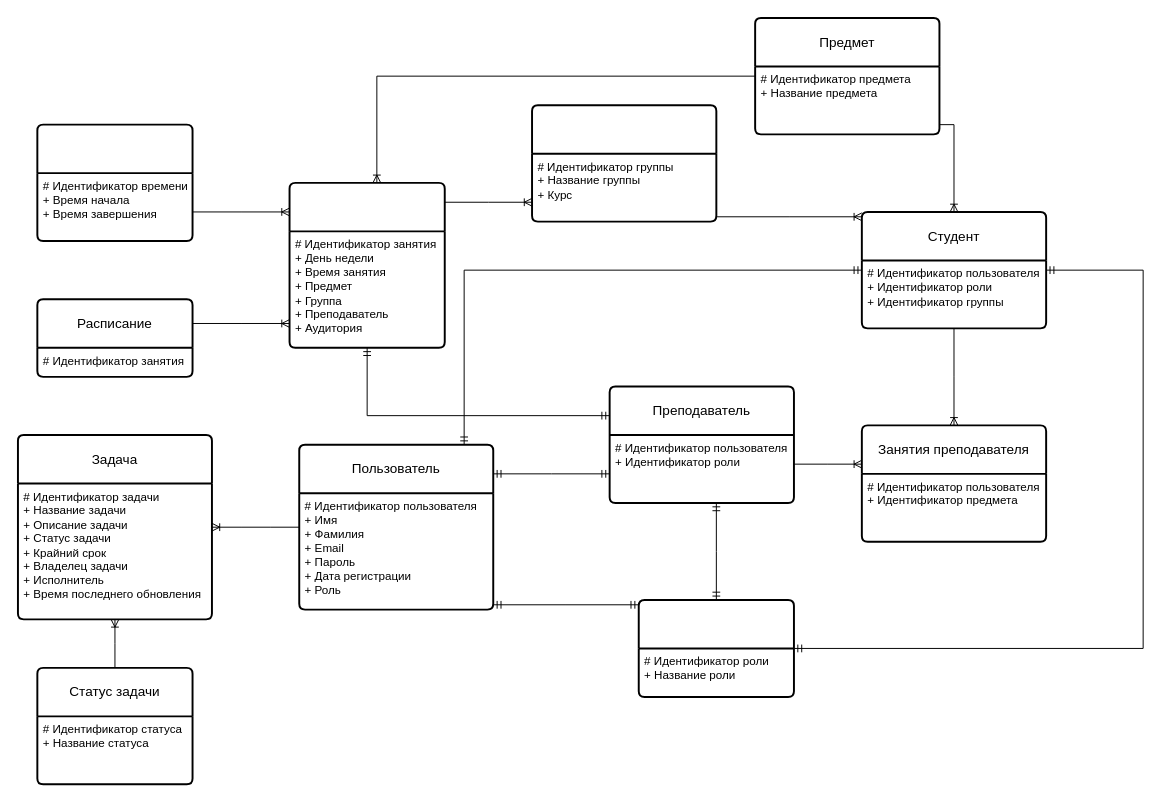
The diagram is 1169 pixels wide and 801 high, and some of its shapes have lost their labels. The shapes that lost their labels are listed below. From the top down, each one's box as (x1, y1, x2, y2) in pixels, then its label:
(36, 123, 193, 242): Время занятия
(531, 104, 717, 222): Группа
(288, 181, 445, 348): Занятие
(637, 598, 794, 697): Роль
